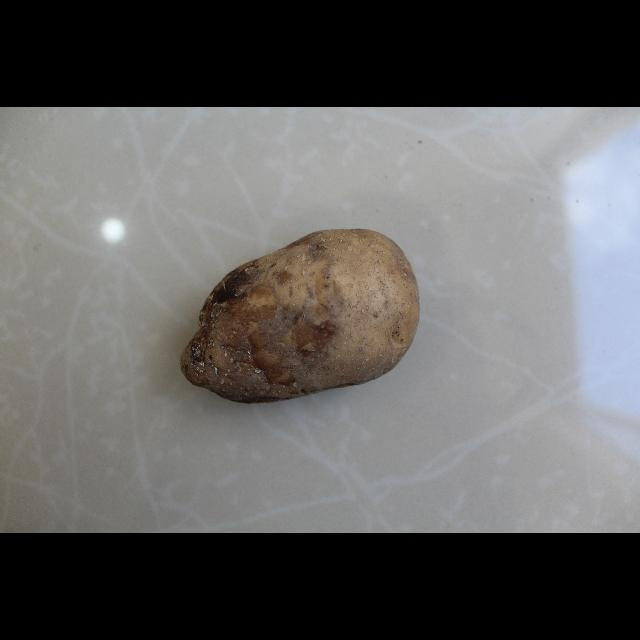Diseased-fungal potato: (215, 236, 460, 414)
